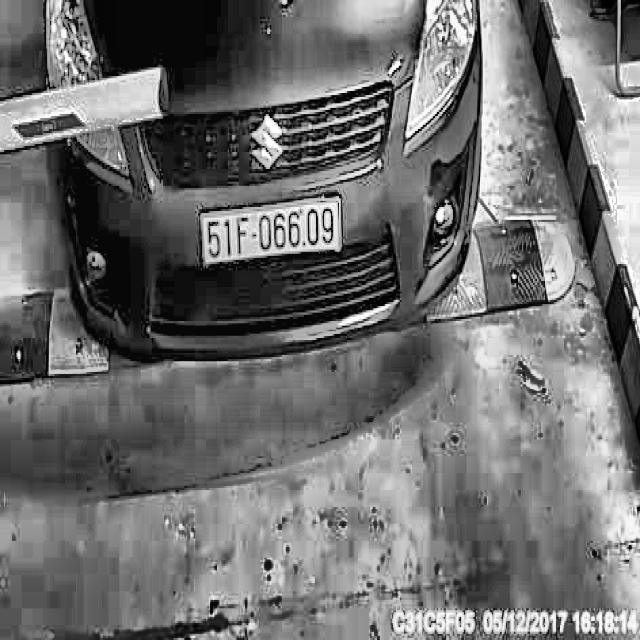plate: (199, 192, 343, 272)
